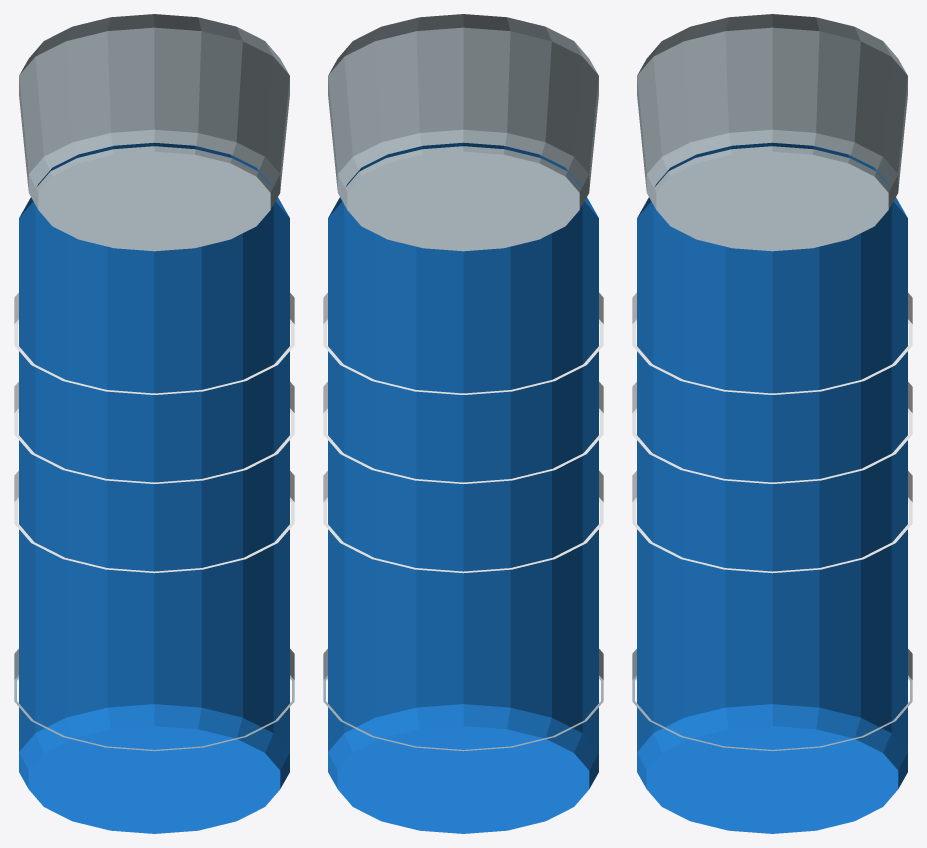
Rendered from termos.glb.
The picture shows the model from 3 angles, left to right: view 1: azimuth 30°, elevation 25°; view 2: azimuth 150°, elevation 25°; view 3: azimuth 270°, elevation 25°; orthographic projection.
Visible parts, largest first — view 1: termos; view 2: termos; view 3: termos.
Boxes of the visible parts, left/top/right/bottom form: termos: left=14, top=14, right=294, bottom=833; termos: left=323, top=14, right=603, bottom=833; termos: left=632, top=14, right=912, bottom=833.
Bounding box in the file's own units: 0.29 × 0.8 × 0.2856.
